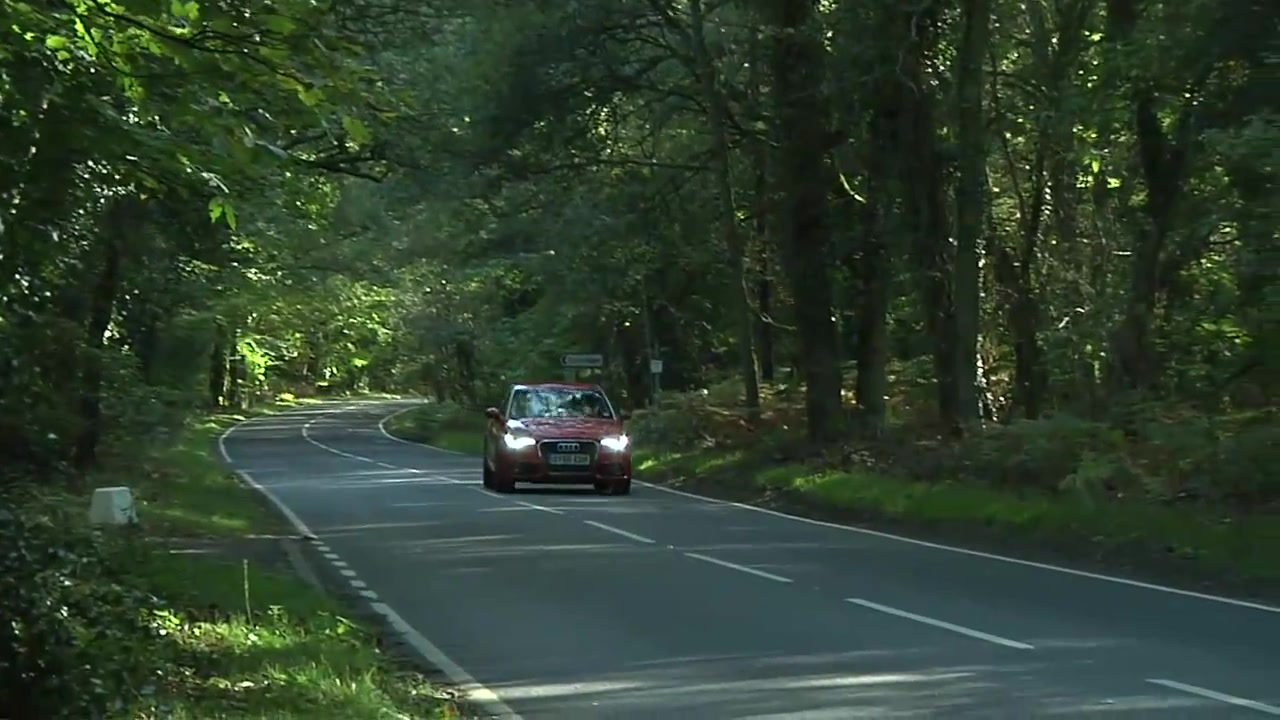car: (482, 377, 636, 496)
